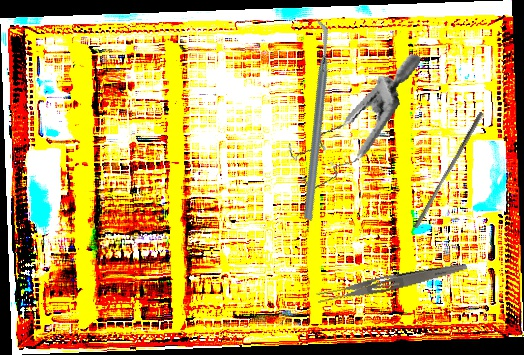Chopper: (228, 18, 400, 222)
Dressing Forceps: (315, 256, 468, 307)
Pusher: (412, 108, 485, 232)
Speculum: (279, 31, 422, 208)
